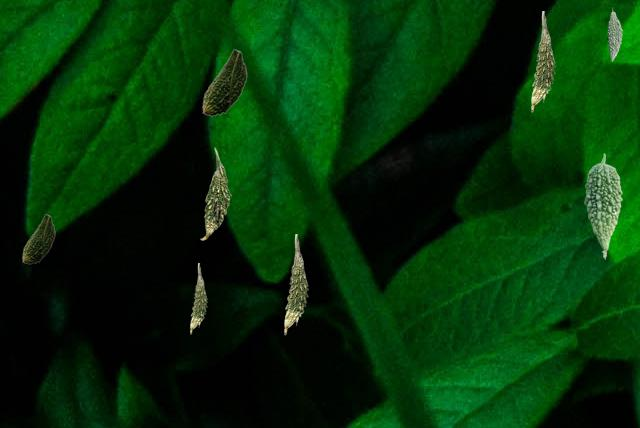ampalaya: (584, 153, 621, 258), (202, 49, 246, 115), (200, 147, 230, 239), (284, 234, 307, 334), (531, 11, 554, 111), (22, 214, 54, 263), (190, 263, 206, 333), (607, 7, 621, 60)
